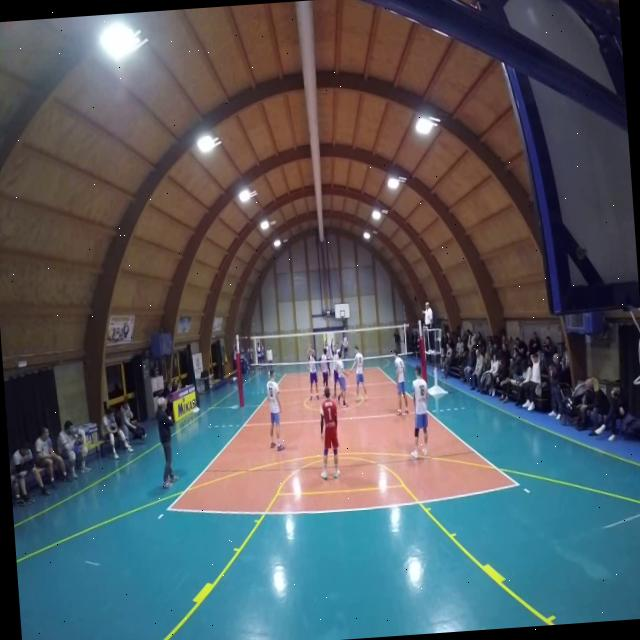serve: (340, 330, 351, 363)
